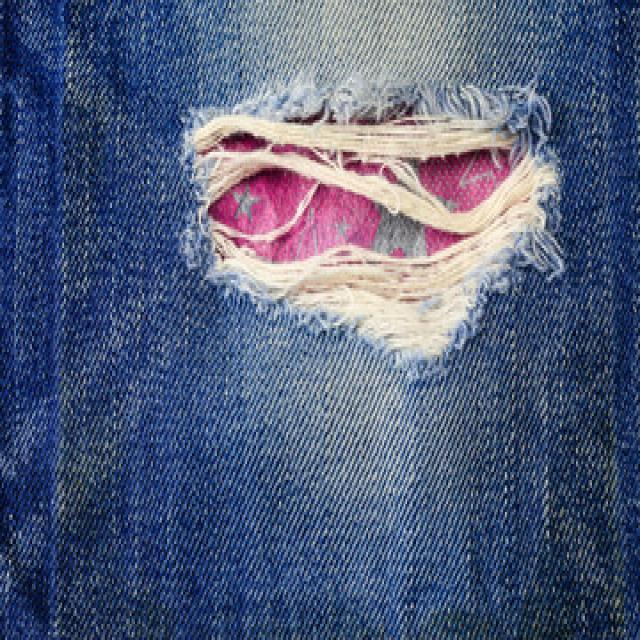Hole: (184, 78, 563, 374)
